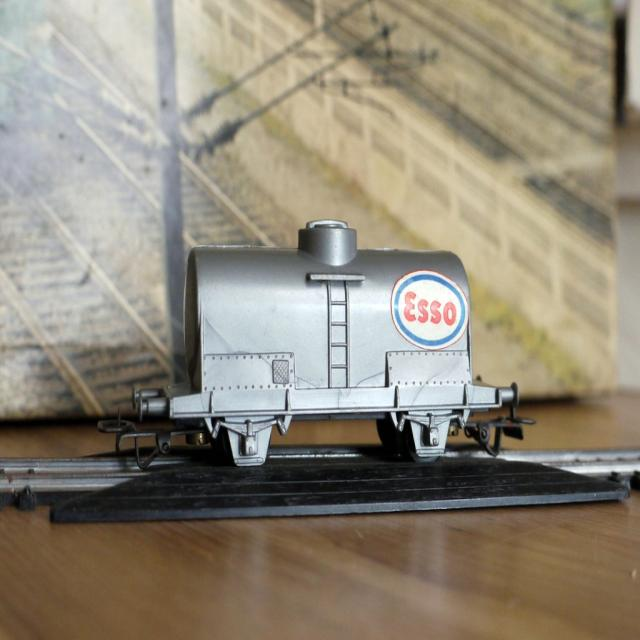esso: (385, 267, 471, 354)
